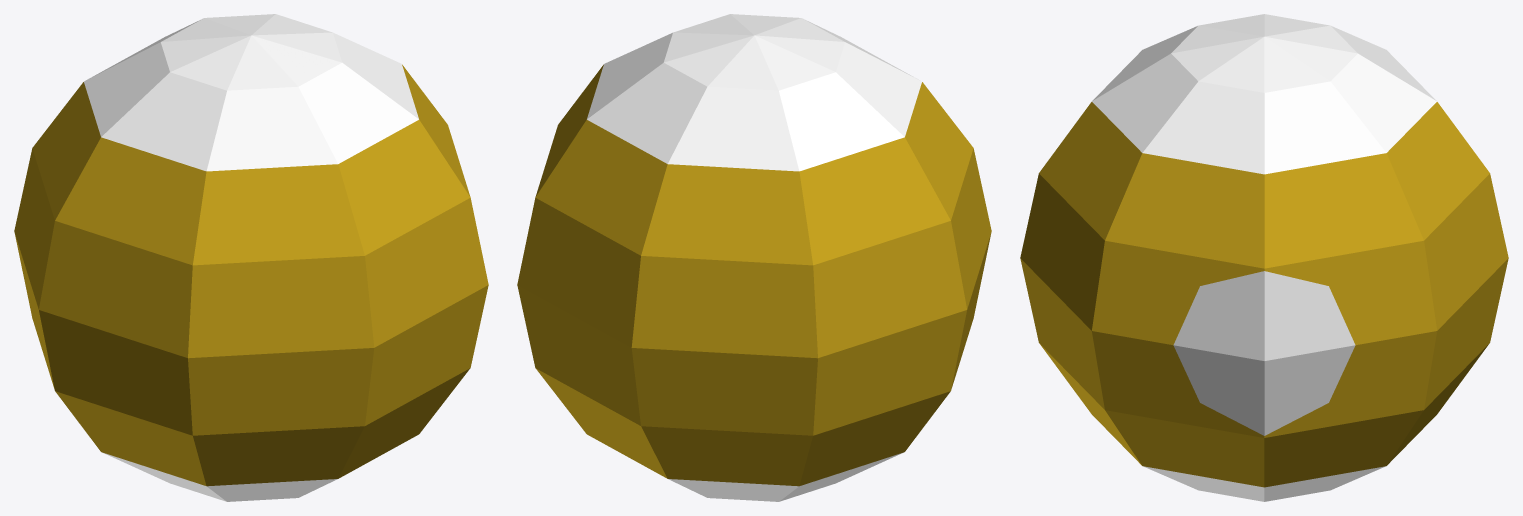
Rendered from amarela2.obj.
3 views of the same model, side by side, from view 1: azimuth 30°, elevation 25°; view 2: azimuth 150°, elevation 25°; view 3: azimuth 270°, elevation 25° (orthographic).
Parts seen in each view (by area): view 1: all_balls.012; view 2: all_balls.012; view 3: all_balls.012.
Part boxes in pixels (x1,y1,x2,y2): all_balls.012: (14,14,488,501); all_balls.012: (517,14,991,501); all_balls.012: (1020,14,1508,501).
Size of the model in its own units: 0.3459 by 0.3459 by 0.3459.
